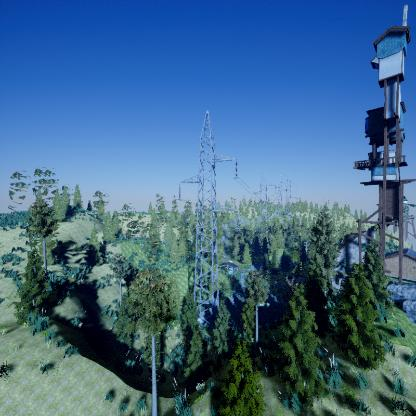tower: (176, 110, 239, 318)
